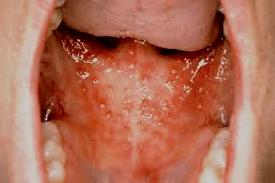Ulcer: (59, 32, 190, 125)
